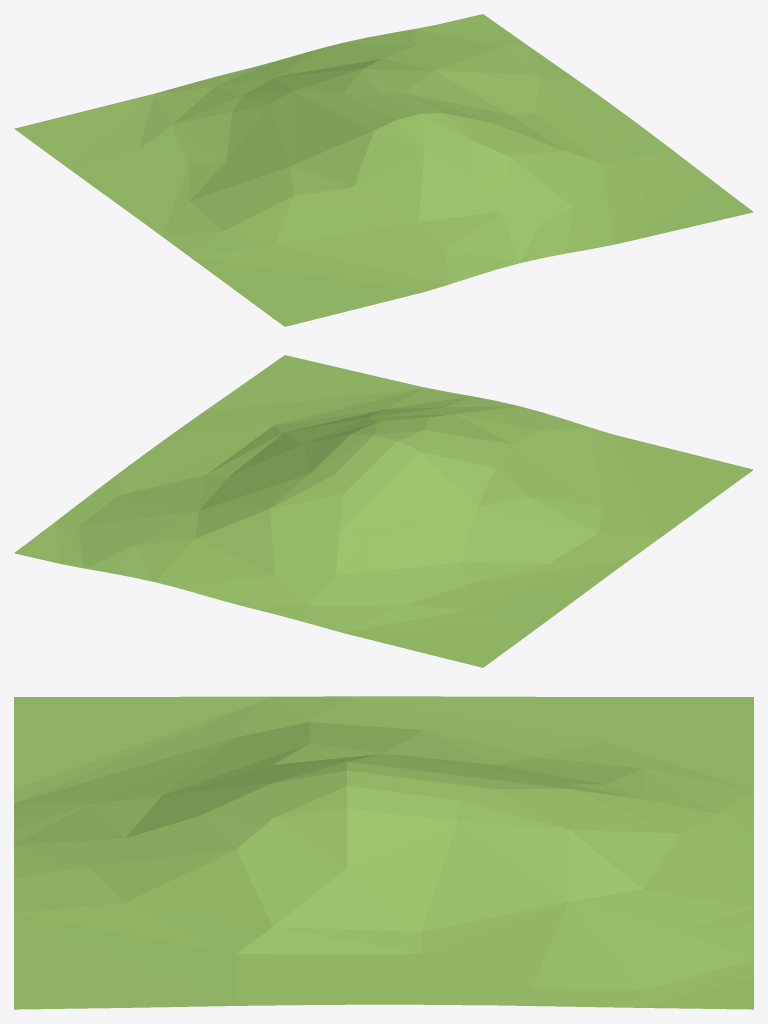
The model's file is hill_1.fbx.
The picture shows the model from 3 angles, top to bottom: view 1: azimuth 30°, elevation 25°; view 2: azimuth 150°, elevation 25°; view 3: azimuth 270°, elevation 25°; orthographic projection. The views are drawn at different scales.
Parts seen in each view (by area): view 1: Long_Hill_reduced; view 2: Long_Hill_reduced; view 3: Long_Hill_reduced.
Part boxes in pixels (x1,y1,x2,y2): Long_Hill_reduced: (14, 14, 753, 326); Long_Hill_reduced: (14, 355, 753, 667); Long_Hill_reduced: (14, 696, 753, 1009).
Size of the model in its own units: 437 by 54.24 by 437.
